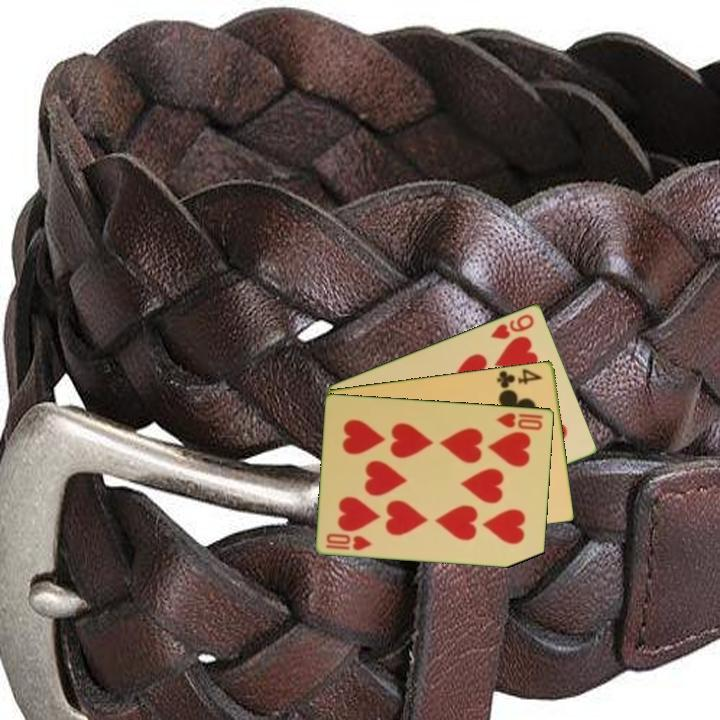10h: (493, 409, 546, 433), (322, 529, 375, 553)
4c: (494, 365, 545, 393)
9h: (487, 310, 537, 342)
